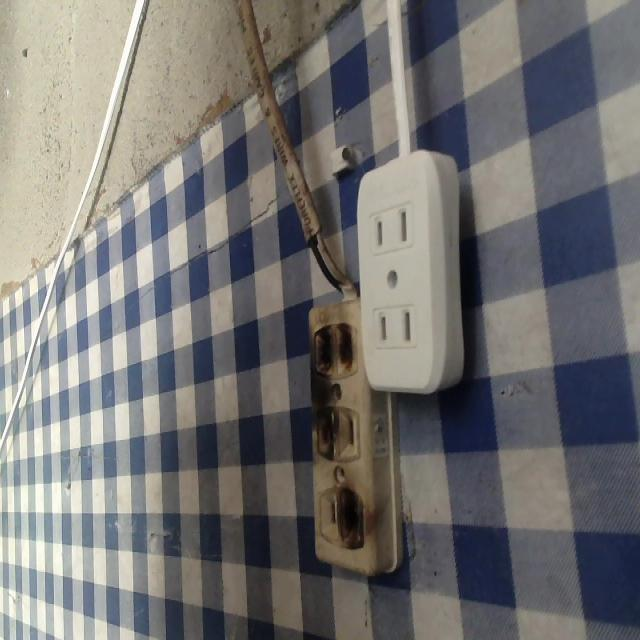-: (307, 322, 361, 378), (309, 404, 341, 465), (337, 481, 366, 548)
